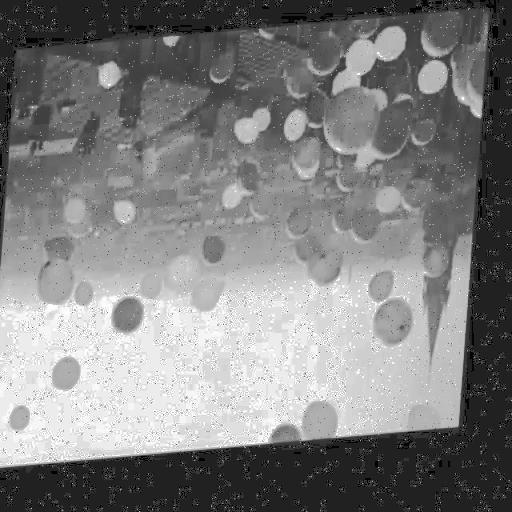balloon: (324, 98, 382, 164), (375, 105, 416, 164), (420, 16, 463, 66), (378, 306, 420, 355), (306, 35, 344, 79), (40, 260, 75, 306), (466, 52, 489, 122), (308, 408, 346, 446), (312, 251, 349, 288), (452, 56, 475, 115), (168, 257, 201, 297), (116, 298, 149, 337), (346, 45, 375, 85), (46, 234, 79, 269), (376, 34, 408, 68), (284, 67, 314, 102), (421, 257, 453, 289), (417, 72, 450, 102), (414, 412, 448, 440), (55, 360, 86, 390), (194, 286, 226, 315), (358, 212, 383, 249), (298, 140, 324, 175), (402, 189, 431, 220), (377, 193, 408, 220), (304, 102, 330, 133), (412, 125, 440, 153), (207, 236, 230, 270), (236, 166, 260, 198), (296, 238, 322, 267), (332, 77, 362, 102), (290, 211, 314, 242), (254, 192, 278, 223), (370, 279, 396, 307), (143, 276, 167, 306), (69, 216, 96, 242), (62, 196, 88, 222), (100, 63, 122, 93), (115, 200, 140, 226), (98, 63, 124, 88), (336, 212, 363, 236), (278, 429, 308, 450), (233, 123, 258, 148), (210, 59, 234, 84), (286, 114, 306, 144), (354, 150, 380, 173), (224, 186, 246, 212), (250, 113, 273, 137), (339, 172, 361, 197), (13, 407, 34, 431), (80, 286, 98, 308), (337, 157, 359, 174), (254, 32, 278, 44), (160, 39, 177, 52)
